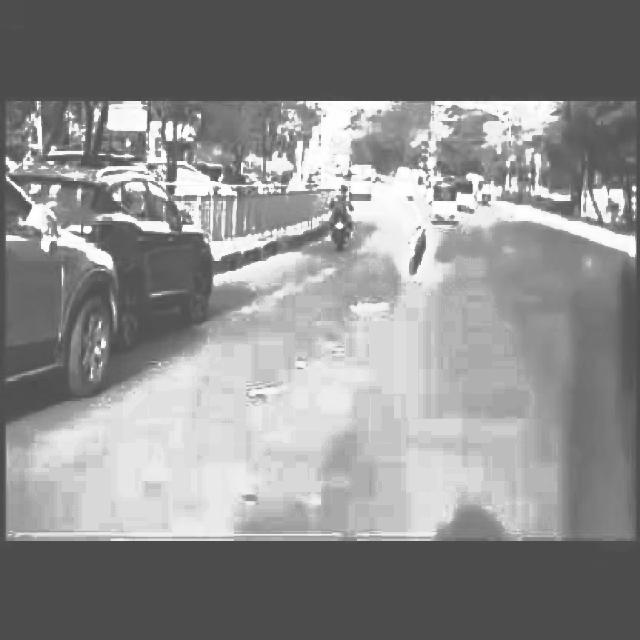Car: (97, 171, 258, 320), (0, 180, 94, 378)
